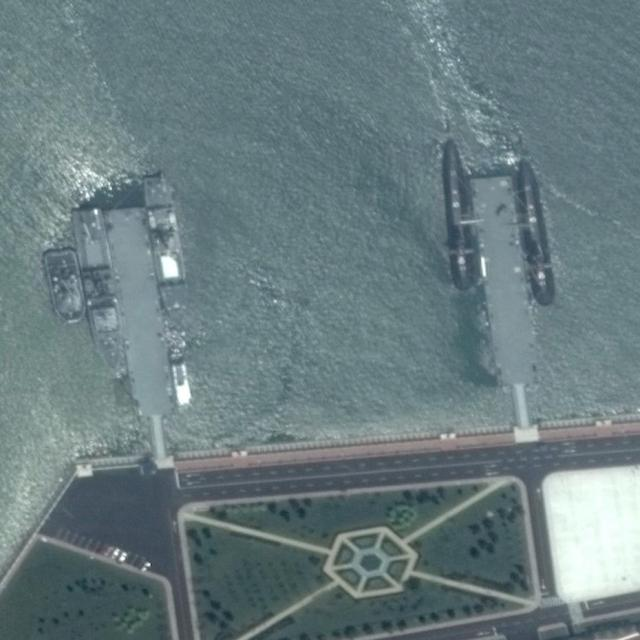Other Warship: (70, 206, 128, 373), (141, 171, 192, 321), (45, 245, 89, 326), (170, 359, 193, 413)
Submarine: (508, 156, 562, 310), (436, 136, 478, 293)
